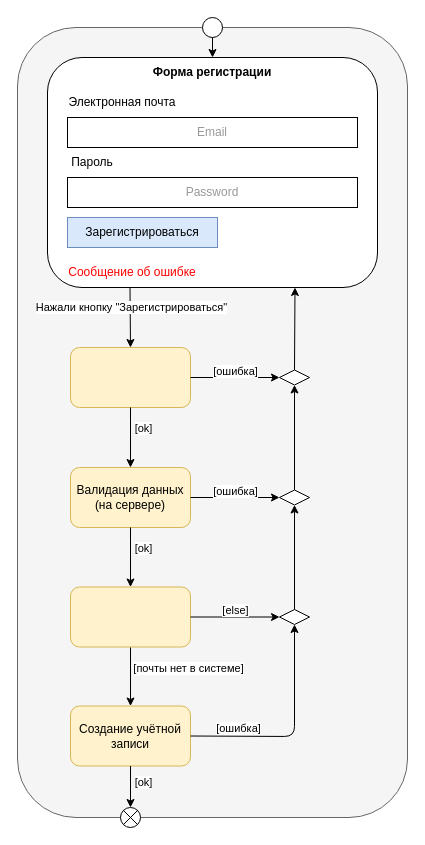
This 425x845 diagram has some shape labels left out. The shapes that lost their labels are listed below. From the top down, each one's box as (x1, y1, x2, y2) in pixels, then its label:
(70, 346, 190, 408): Валидация данных (на клиенте)
(70, 586, 190, 647): Проверка отсутствия почты в системе
